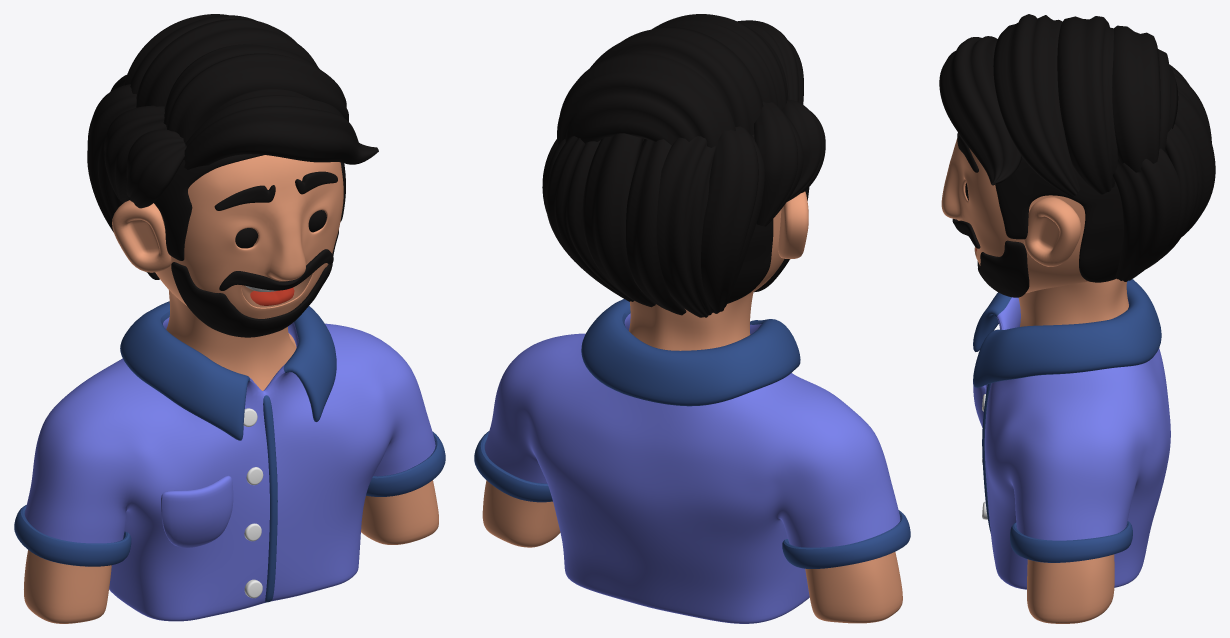
The model's file is character.glb.
3 views of the same model, side by side, from view 1: azimuth 30°, elevation 25°; view 2: azimuth 150°, elevation 25°; view 3: azimuth 270°, elevation 25° (orthographic). The views are drawn at different scales.
Visible parts, largest first — view 1: Base Model.009, Base Model.007, Base Model.008, Hair.044, Hair.037, Hair.036, Base Model.001, Base Model.003, Base Model.010, Hair.034, Cube.061, Cube.063 (+6 smaller); view 2: Base Model.009, Base Model.008, Hair.035, Hair.029, Hair.027, Hair.030, Hair.036, Hair.028, Base Model.001, Hair.032, Hair.033, Hair.037 (+5 smaller); view 3: Base Model.009, Hair.037, Base Model.008, Hair.036, Hair.035, Hair.044, Cube.063, Base Model.007, Hair.031, Cube.062, Base Model.001, Hair.030 (+4 smaller).
Boxes of the visible parts, bbox=[...] form: Base Model.009: bbox=[25, 301, 435, 621]; Base Model.007: bbox=[155, 155, 343, 318]; Base Model.008: bbox=[24, 290, 438, 623]; Hair.044: bbox=[183, 89, 378, 169]; Hair.037: bbox=[163, 44, 348, 143]; Hair.036: bbox=[136, 18, 318, 110]; Base Model.001: bbox=[14, 431, 445, 566]; Base Model.003: bbox=[161, 475, 233, 547]; Base Model.010: bbox=[171, 230, 338, 337]; Hair.034: bbox=[126, 129, 185, 208]; Cube.061: bbox=[112, 200, 171, 272]; Cube.063: bbox=[122, 144, 345, 279]; Base Model.009: bbox=[485, 299, 900, 623]; Base Model.008: bbox=[482, 292, 902, 623]; Hair.035: bbox=[557, 53, 735, 148]; Hair.029: bbox=[701, 126, 764, 313]; Hair.027: bbox=[656, 136, 715, 317]; Hair.030: bbox=[582, 133, 655, 307]; Hair.036: bbox=[590, 27, 763, 135]; Hair.028: bbox=[626, 139, 686, 315]; Base Model.001: bbox=[474, 431, 910, 568]; Hair.032: bbox=[545, 136, 633, 301]; Hair.033: bbox=[754, 101, 803, 226]; Hair.037: bbox=[651, 14, 788, 109]; Base Model.009: bbox=[973, 279, 1170, 589]; Hair.037: bbox=[993, 14, 1080, 197]; Base Model.008: bbox=[1018, 278, 1128, 623]; Hair.036: bbox=[1057, 16, 1117, 194]; Hair.035: bbox=[1112, 25, 1178, 172]; Hair.044: bbox=[939, 36, 1021, 185]; Cube.063: bbox=[995, 157, 1122, 282]; Base Model.007: bbox=[941, 138, 1088, 293]; Hair.031: bbox=[1112, 148, 1180, 281]; Cube.062: bbox=[1024, 197, 1080, 266]; Base Model.001: bbox=[1010, 521, 1132, 562]; Hair.030: bbox=[1175, 91, 1215, 237].
Bounding box in the file's own units: 4.31 × 5.44 × 2.63.
